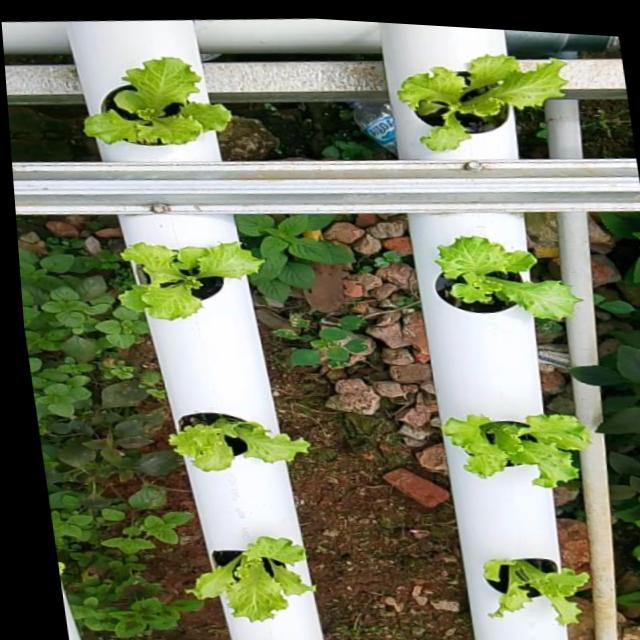Baby: (403, 57, 574, 154), (86, 56, 234, 160), (433, 232, 580, 317), (122, 241, 269, 321), (441, 410, 590, 485), (186, 534, 316, 619), (168, 410, 310, 469), (484, 555, 589, 621)
